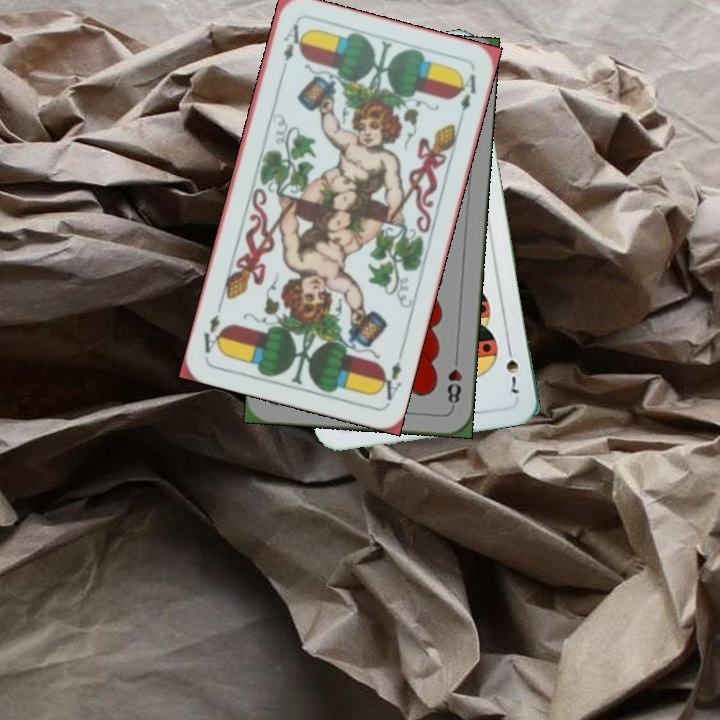EA: (373, 347, 405, 403), (279, 19, 303, 63)
H8: (443, 351, 464, 410)
S7: (502, 340, 522, 399)
